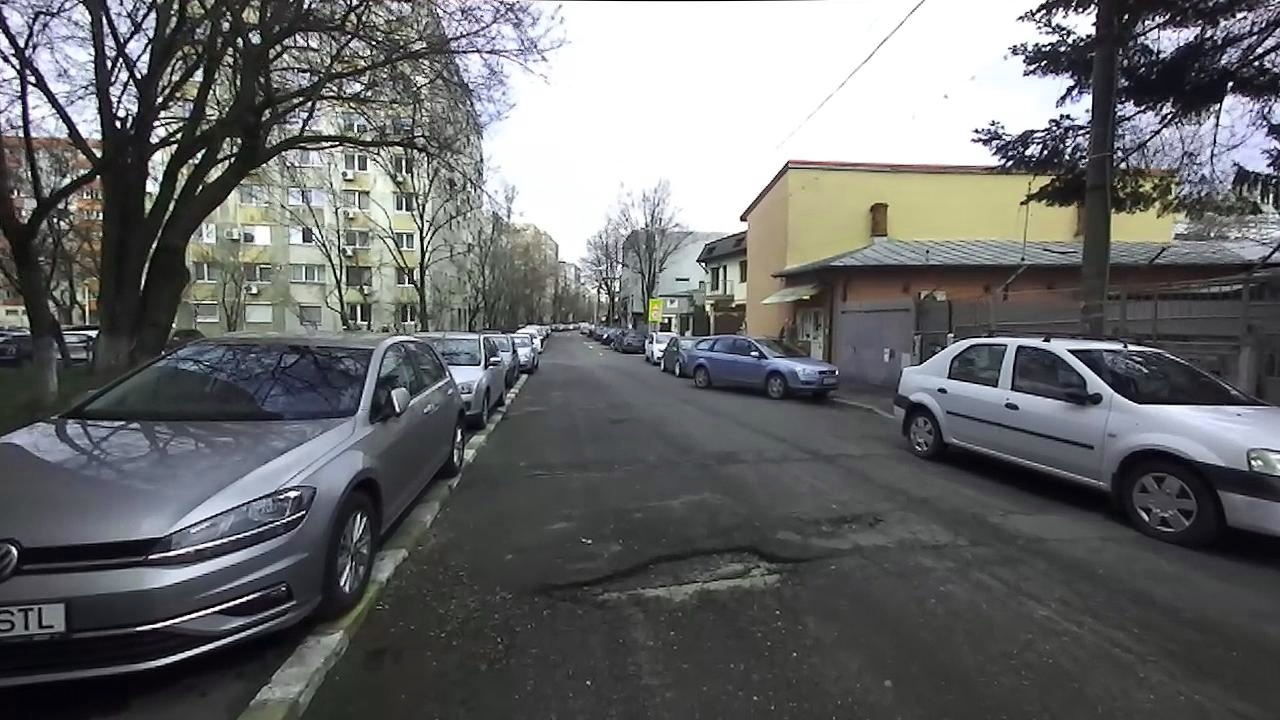pothole: (527, 542, 818, 611), (798, 506, 889, 536)
